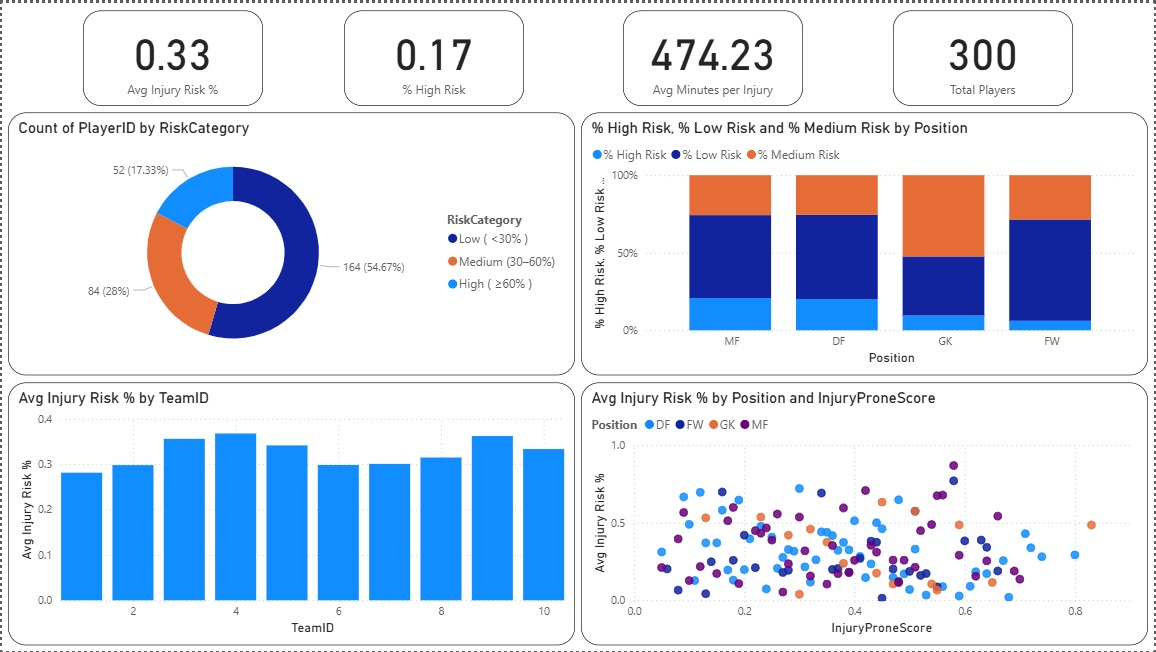

Layout of this report page (visuals, bound fields, positions):
{"tool":"powerbi","page":{"name":"Player Risk & Performance Overview","canvas":[1280,720],"ordinal":0},"visuals":[{"type":"card","fields":{"Values":["KPIs.Avg Injury Risk %"]},"box":[90,8,200,106],"z":0},{"type":"card","fields":{"Values":["KPIs.% High Risk"]},"box":[380,8,200,106],"z":1},{"type":"card","fields":{"Values":["KPIs.Avg Minutes per Injury"]},"box":[690,8,200,106],"z":2},{"type":"card","fields":{"Values":["KPIs.Total Players"]},"box":[990,8,200,106],"z":3},{"type":"donutChart","fields":{"Category":["Risk.RiskCategory"],"Y":["Count(Plan.PlayerID)"]},"box":[6,122,630,292],"z":4},{"type":"clusteredColumnChart","fields":{"Category":["KPIs.TeamID"],"Y":["KPIs.Avg Injury Risk %"]},"box":[6,421,630,292],"z":5},{"type":"hundredPercentStackedColumnChart","fields":{"Category":["Players.Position"],"Y":["KPIs.% High Risk","KPIs.% Low Risk","KPIs.% Medium Risk"]},"box":[644,122,630,292],"z":6},{"type":"scatterChart","fields":{"X":["Players.InjuryProneScore"],"Y":["KPIs.Avg Injury Risk %"],"Series":["Players.Position"]},"box":[644,421,630,292],"z":7}]}

Visuals, with their boxes in screenshot pixels (x1, y1, x2, y2), scaled from the page's 1280x720 canvas onto the 1156x652 screenshot:
card - KPIs.Avg Injury Risk %: (81,7,262,103)
card - KPIs.% High Risk: (343,7,524,103)
card - KPIs.Avg Minutes per Injury: (623,7,804,103)
card - KPIs.Total Players: (894,7,1075,103)
donutChart - Risk.RiskCategory x Count(Plan.PlayerID): (5,110,574,375)
clusteredColumnChart - KPIs.TeamID x KPIs.Avg Injury Risk %: (5,381,574,646)
hundredPercentStackedColumnChart - Players.Position x KPIs.% High Risk: (582,110,1151,375)
scatterChart - Players.InjuryProneScore x KPIs.Avg Injury Risk %: (582,381,1151,646)
